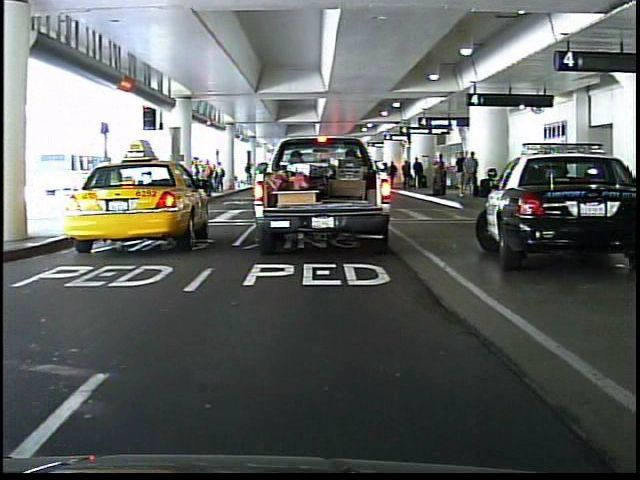person: (260, 148, 288, 222), (323, 144, 348, 206), (243, 160, 256, 188)
